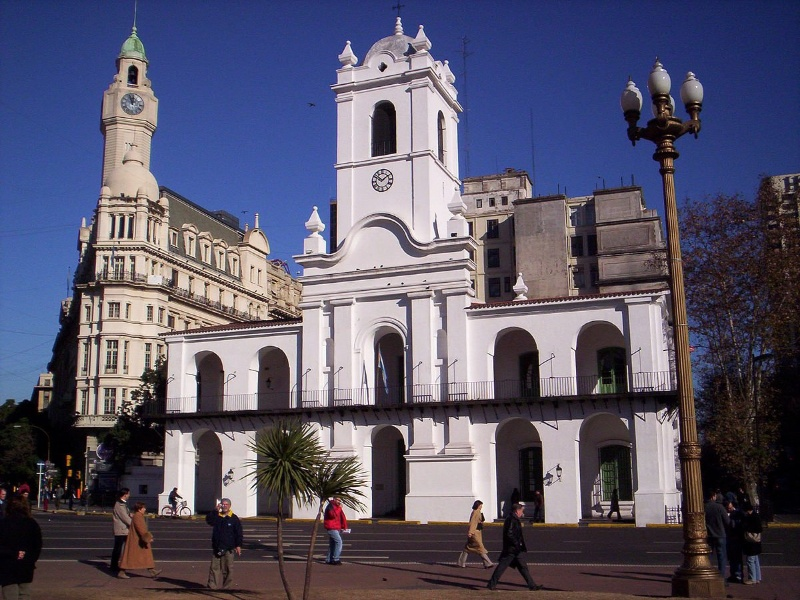cabildo: (140, 4, 690, 537)
